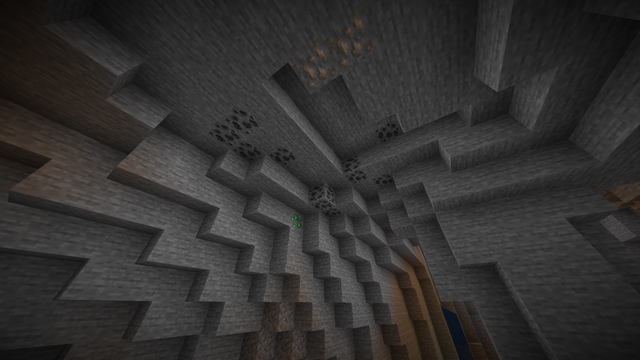coal: (206, 108, 295, 168), (340, 154, 394, 188), (309, 183, 340, 216), (372, 120, 401, 143)
emerald: (292, 209, 304, 229)
iron: (291, 15, 373, 87)
